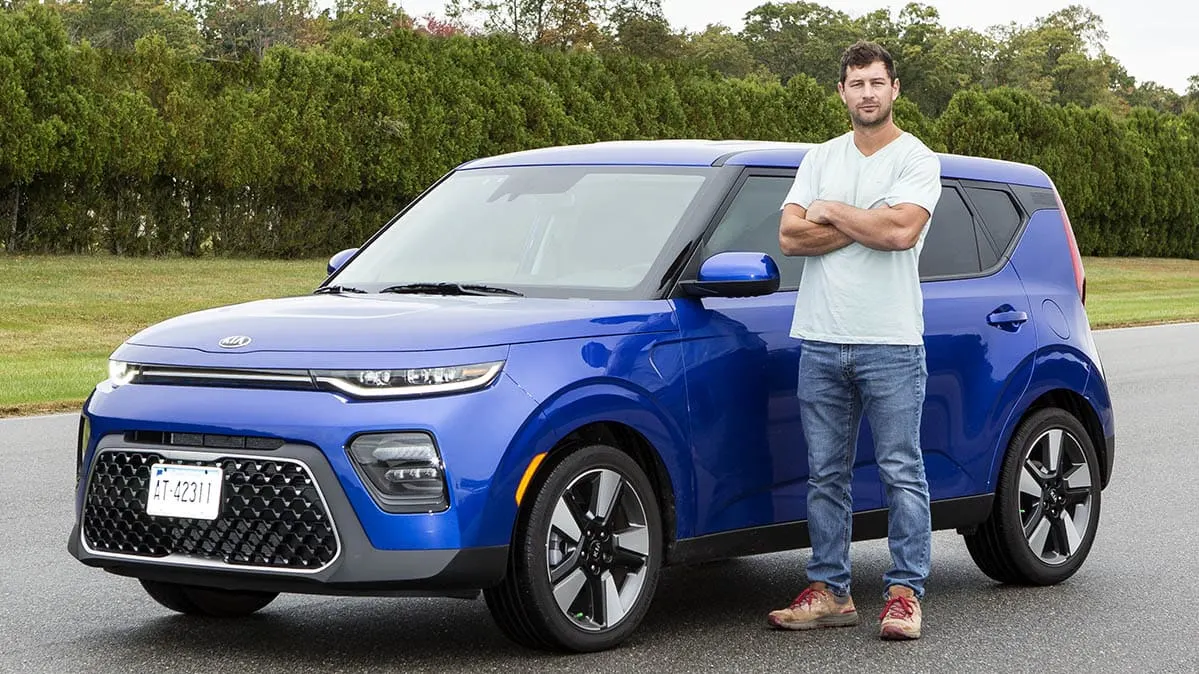car: (73, 119, 1122, 661)
man: (770, 28, 946, 647)
